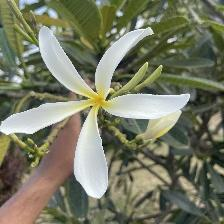champaka: (4, 25, 192, 200)
